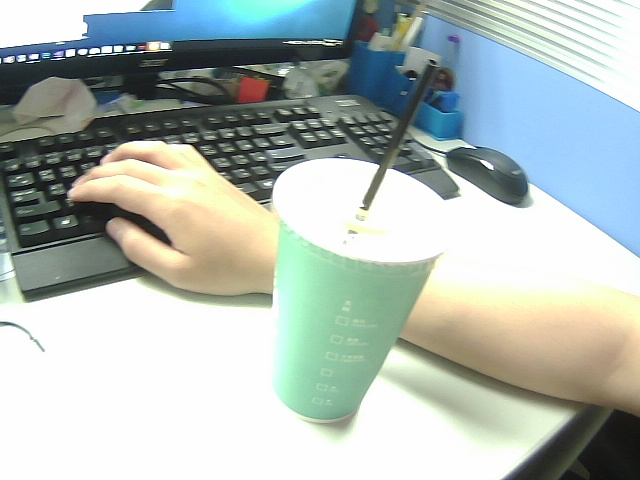beverage: (256, 52, 457, 439)
